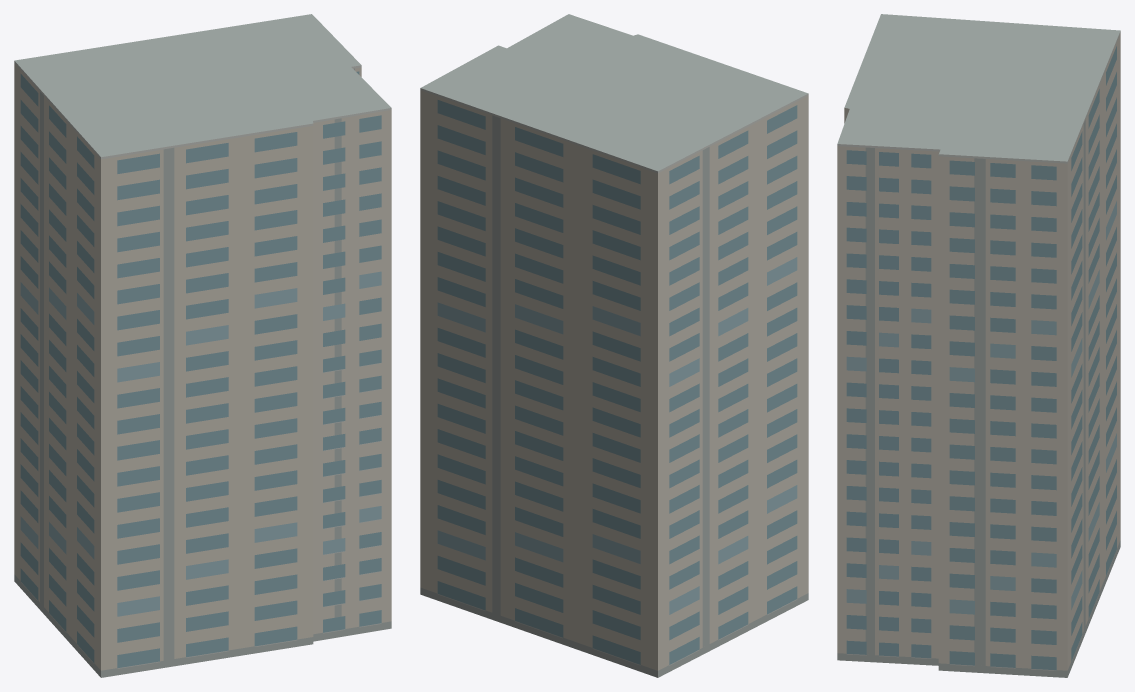
The model's file is survey-upis-32704409.glb.
The picture shows the model from 3 angles, left to right: view 1: azimuth 30°, elevation 25°; view 2: azimuth 150°, elevation 25°; view 3: azimuth 270°, elevation 25°; orthographic projection. The views are drawn at different scales.
Visible parts, largest first — view 1: survey-upis-32704409.tmp; view 2: survey-upis-32704409.tmp; view 3: survey-upis-32704409.tmp.
Part boxes in pixels (x1,y1,x2,y2): survey-upis-32704409.tmp: (14,14,391,677); survey-upis-32704409.tmp: (420,14,808,677); survey-upis-32704409.tmp: (837,14,1120,677).
Bounding box in the file's own units: 37.4 × 61 × 30.35.
